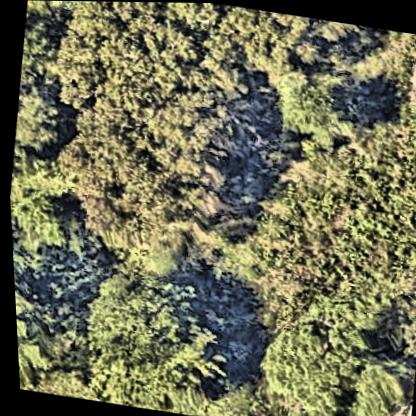tree-top: (45, 87, 244, 290), (68, 258, 226, 405), (245, 294, 411, 416), (52, 1, 199, 112), (193, 2, 320, 92), (265, 63, 357, 144), (11, 277, 75, 391), (8, 193, 83, 274), (11, 74, 76, 156)
